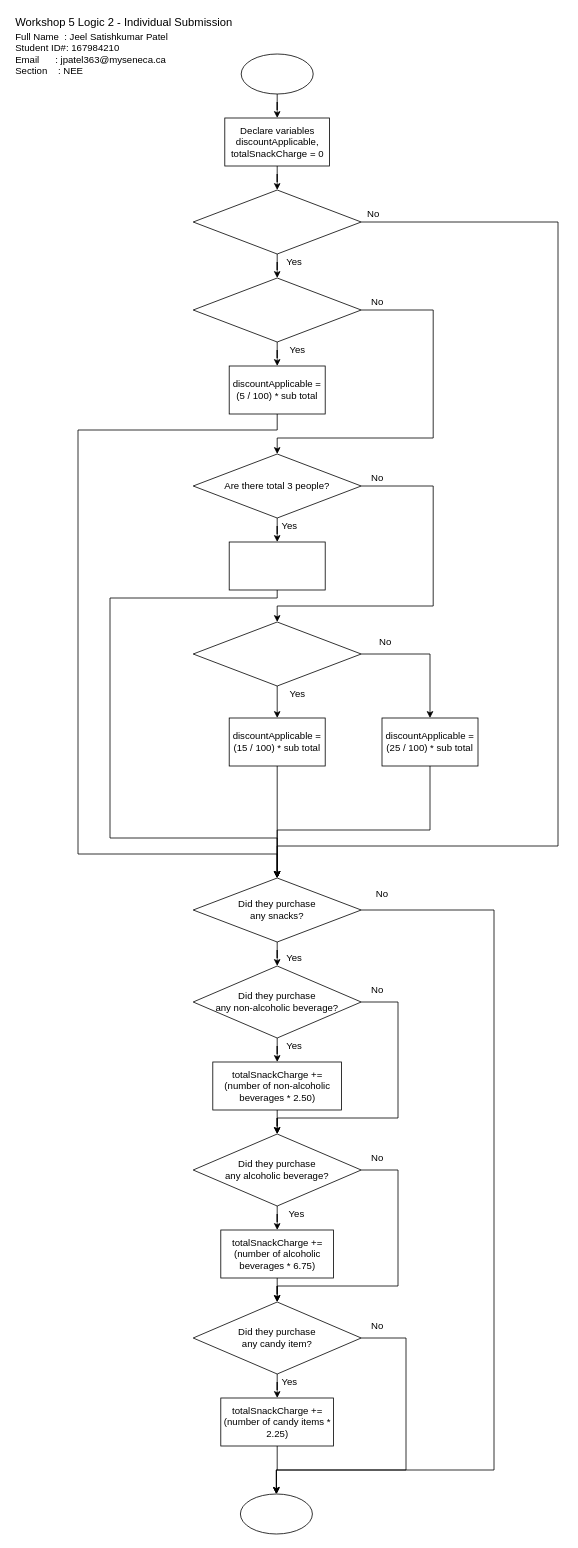
The diagram is 578 pixels wide and 1548 high, and some of its shapes have lost their labels. Each missing label, with the centre of its shape:
Are there more than 1 person?: point (276, 221)
Are there total 2 people?: point (276, 309)
Are there total 4 people?: point (276, 653)
discountApplicable = (10 / 100) * sub total: point (276, 565)
End: point (276, 1513)
Start: point (276, 73)
